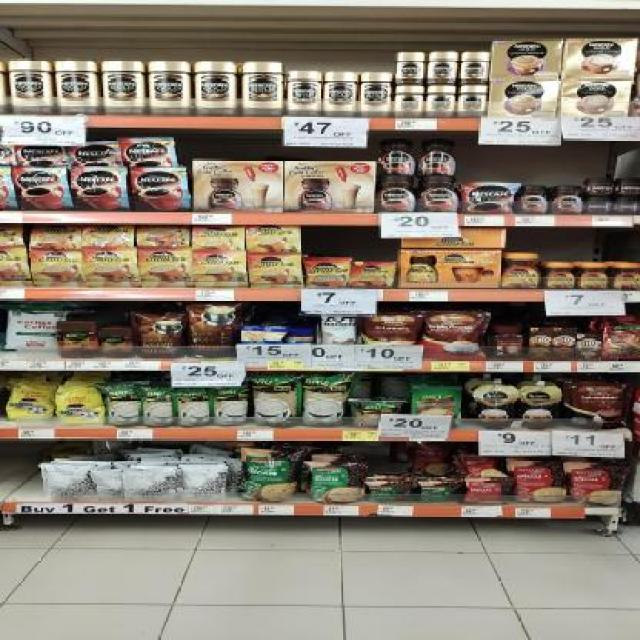Coffee: (9, 60, 53, 115), (133, 169, 185, 211), (244, 62, 282, 118), (18, 169, 68, 211), (105, 61, 143, 116), (152, 61, 190, 116), (58, 60, 96, 114), (198, 62, 236, 116), (76, 169, 124, 211), (86, 250, 136, 286), (143, 249, 191, 286), (34, 250, 80, 286), (252, 254, 300, 288), (195, 253, 242, 287), (466, 183, 512, 214), (361, 73, 392, 118), (123, 139, 174, 166), (420, 176, 458, 212), (324, 72, 354, 117), (290, 71, 319, 117), (249, 224, 297, 250), (504, 253, 538, 289), (307, 259, 350, 287), (421, 139, 454, 175), (380, 176, 412, 213), (381, 138, 413, 174), (195, 225, 242, 249), (33, 224, 79, 248), (86, 224, 132, 247), (396, 85, 424, 118), (74, 146, 118, 166), (18, 145, 64, 164), (517, 186, 548, 214), (396, 52, 424, 83), (459, 85, 486, 117), (428, 85, 454, 118), (462, 52, 488, 83), (430, 52, 455, 83), (554, 186, 581, 214), (581, 262, 607, 288), (548, 263, 574, 288), (615, 263, 639, 289), (586, 178, 614, 196), (586, 197, 614, 214), (616, 196, 639, 215), (617, 177, 640, 195)
